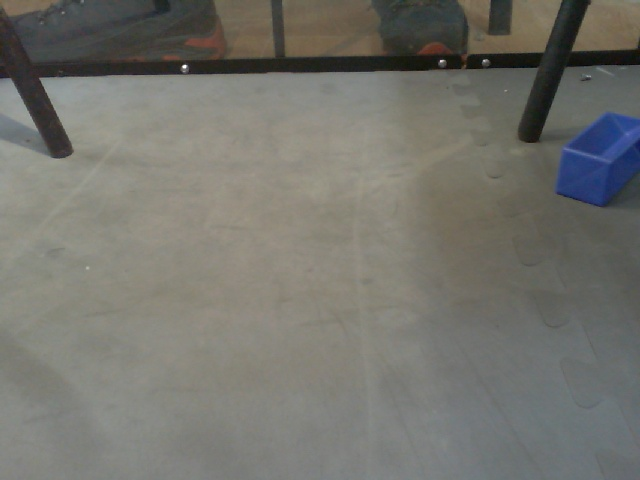BlueSample: (552, 103, 640, 213)
